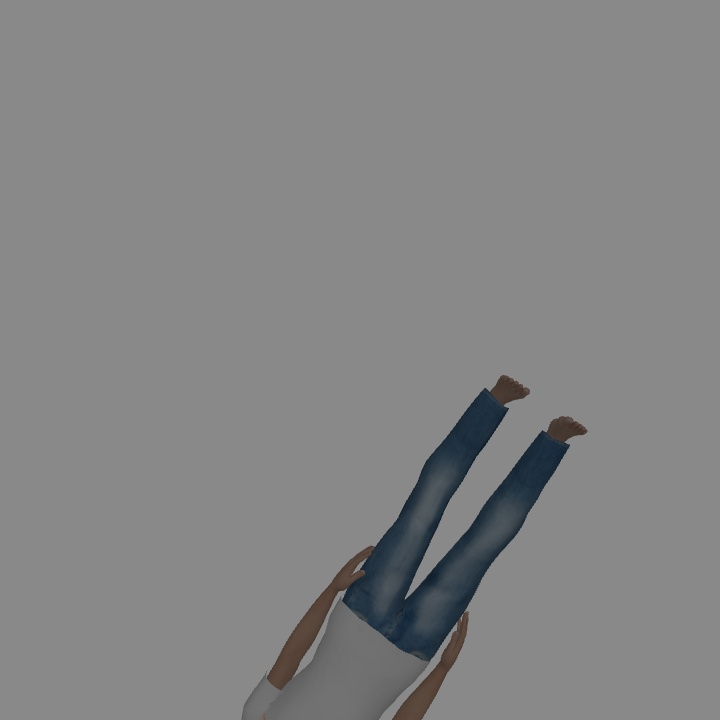victim: (244, 378, 586, 718)
